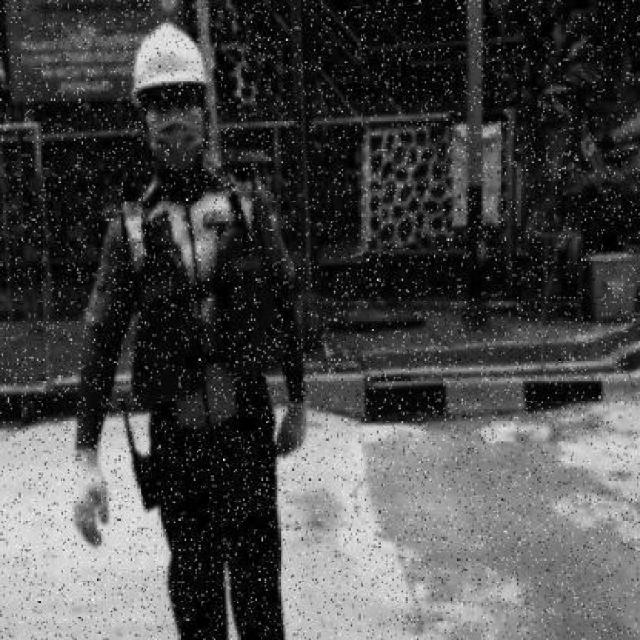Gloves: (66, 446, 116, 554), (271, 390, 314, 465)
Helmet: (131, 20, 206, 89)
Mask: (148, 116, 202, 170)
Protective Glasses: (147, 90, 202, 113)
Vest: (126, 222, 286, 407)
